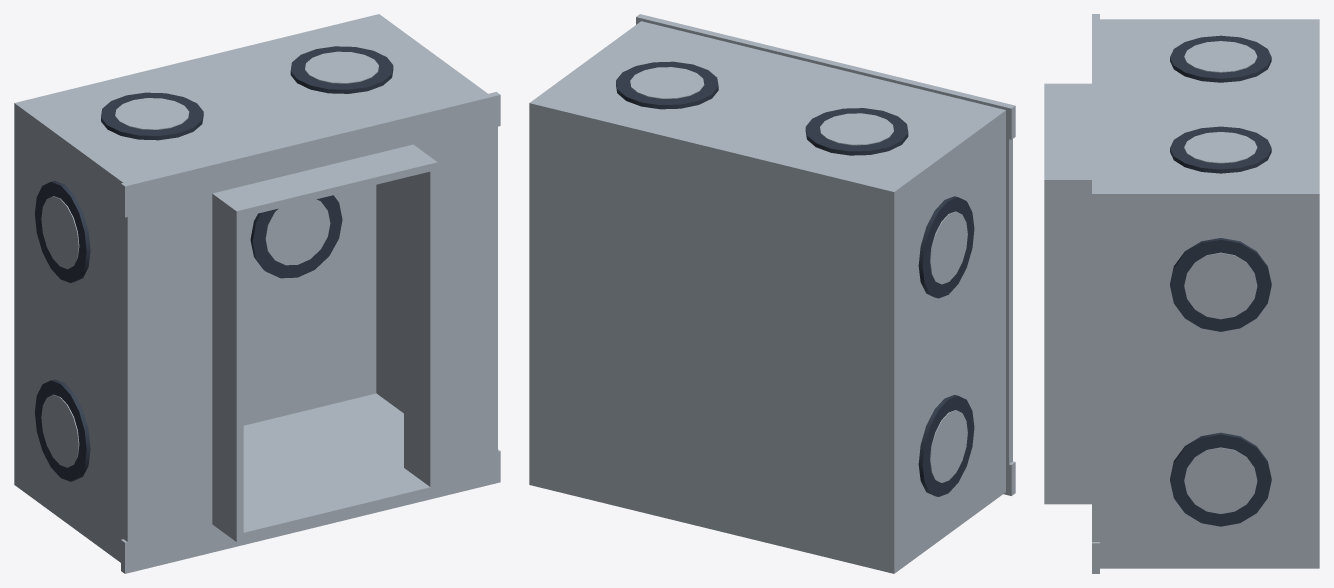
3 views of the same model, side by side, from view 1: azimuth 30°, elevation 25°; view 2: azimuth 150°, elevation 25°; view 3: azimuth 270°, elevation 25° (orthographic).
Visible parts, largest first — view 1: cad-box-4-sq-2.125; view 2: cad-box-4-sq-2.125; view 3: cad-box-4-sq-2.125.
Part boxes in pixels (<box>): cad-box-4-sq-2.125: <box>14,14,500,573</box>; cad-box-4-sq-2.125: <box>529,14,1015,573</box>; cad-box-4-sq-2.125: <box>1044,14,1319,573</box>.
Size of the model in its own units: 0.1046 by 0.1042 by 0.0677.
